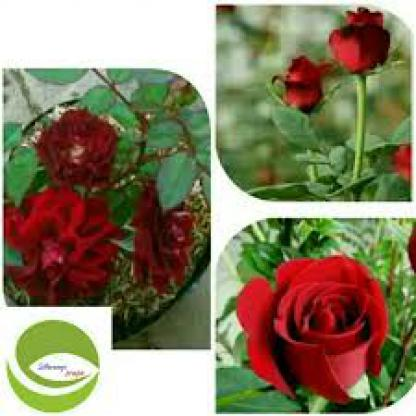Rose-Mawar: (8, 90, 199, 306), (236, 249, 395, 406), (271, 5, 397, 127)
